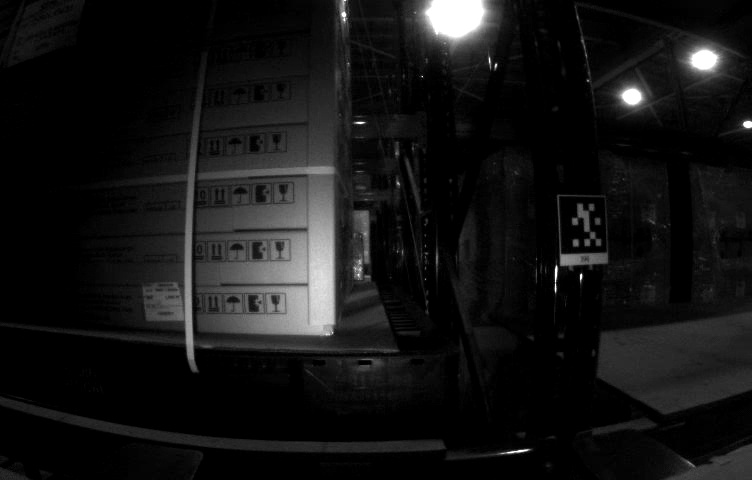True Barcode: (141, 281, 185, 323)
